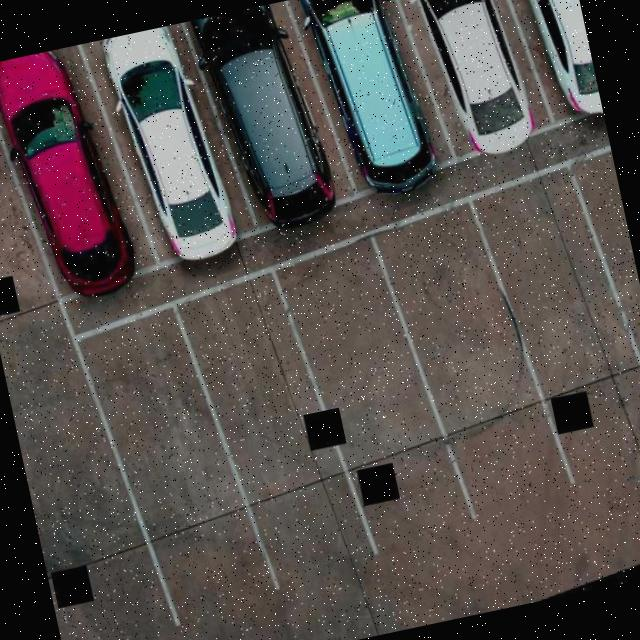empty: (171, 261, 383, 598), (272, 225, 478, 552), (378, 194, 578, 518), (74, 302, 271, 624), (469, 155, 640, 479), (568, 142, 640, 443)
occupied: (72, 17, 258, 276), (175, 0, 365, 243), (0, 36, 165, 307), (277, 0, 457, 205), (373, 0, 557, 165), (474, 0, 603, 132)
